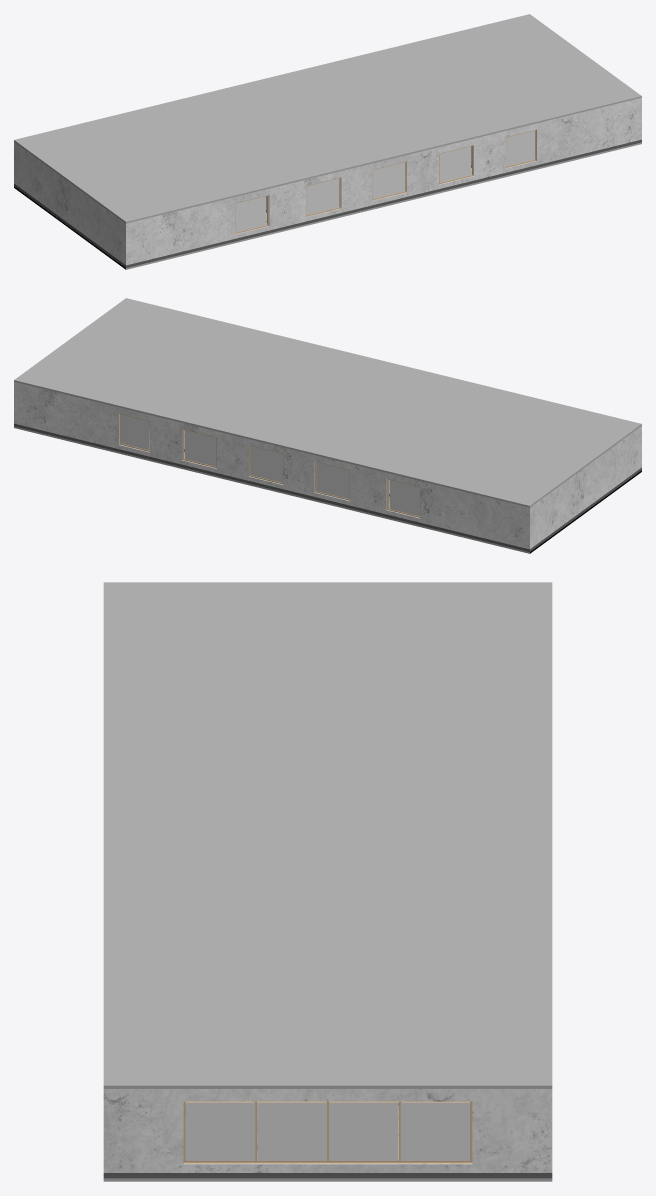
The model's file is Abandoned-hospital-corridor-map.glb.
3 views of the same model, one above another, from view 1: azimuth 30°, elevation 25°; view 2: azimuth 150°, elevation 25°; view 3: azimuth 270°, elevation 25° (orthographic). The views are drawn at different scales.
Visible parts, largest first — view 1: ceeling, wall, windows_1, floor; view 2: ceeling, wall, windows_1, floor; view 3: ceeling, wall, glass, big_window, floor.
Part boxes in pixels (bbox=[...]): ceeling: bbox=[14, 14, 641, 223]; wall: bbox=[14, 98, 641, 267]; windows_1: bbox=[235, 130, 536, 233]; floor: bbox=[14, 138, 641, 269]; ceeling: bbox=[14, 298, 641, 507]; wall: bbox=[14, 382, 641, 551]; windows_1: bbox=[119, 414, 420, 517]; floor: bbox=[14, 423, 641, 553]; ceeling: bbox=[103, 582, 552, 1088]; wall: bbox=[103, 1089, 552, 1178]; glass: bbox=[186, 1102, 469, 1160]; big_window: bbox=[183, 1101, 472, 1163]; floor: bbox=[103, 1102, 552, 1181].
Bounding box in the file's own units: 31.47 × 2.79 × 11.84.
43 materials, 20 textured.
